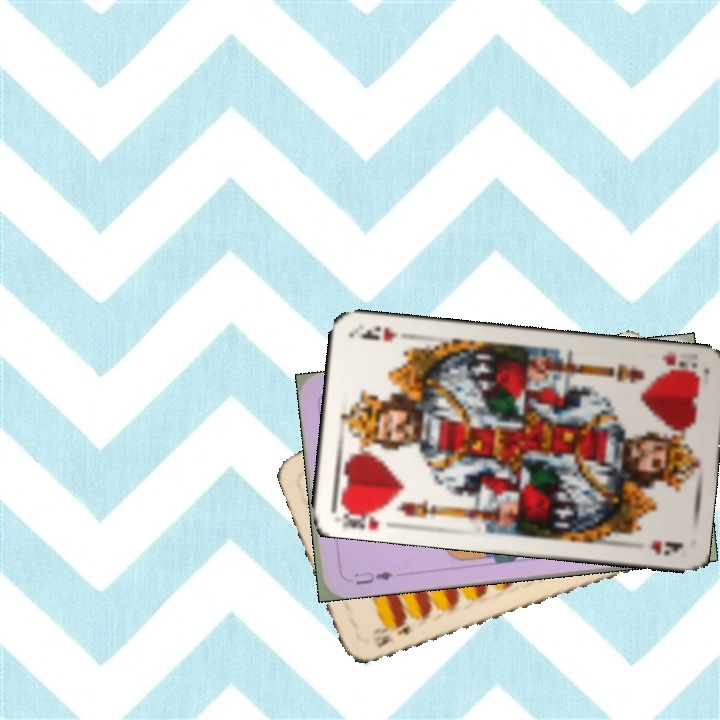E10: (369, 618, 413, 651)
EU: (350, 567, 396, 587)
HK: (337, 502, 388, 533), (656, 348, 701, 378)
